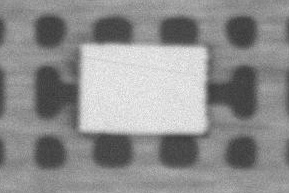DIE_CRACK: (126, 38, 289, 50)
